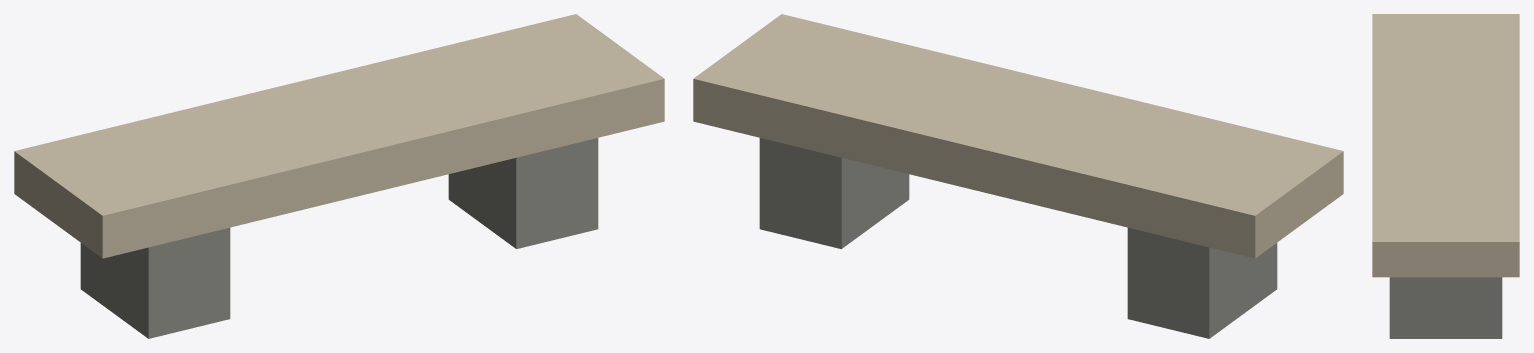
File: bench.glb
3 renders of one model, left to right at view 1: azimuth 30°, elevation 25°; view 2: azimuth 150°, elevation 25°; view 3: azimuth 270°, elevation 25°, orthographic. The views are drawn at different scales.
Visible parts, largest first — view 1: Bench; view 2: Bench; view 3: Bench.
Boxes of the visible parts, bbox=[...] form: Bench: bbox=[14, 14, 664, 338]; Bench: bbox=[693, 14, 1343, 338]; Bench: bbox=[1372, 14, 1519, 338].
Size of the model in its own units: 2.2 by 0.54 by 0.6.
